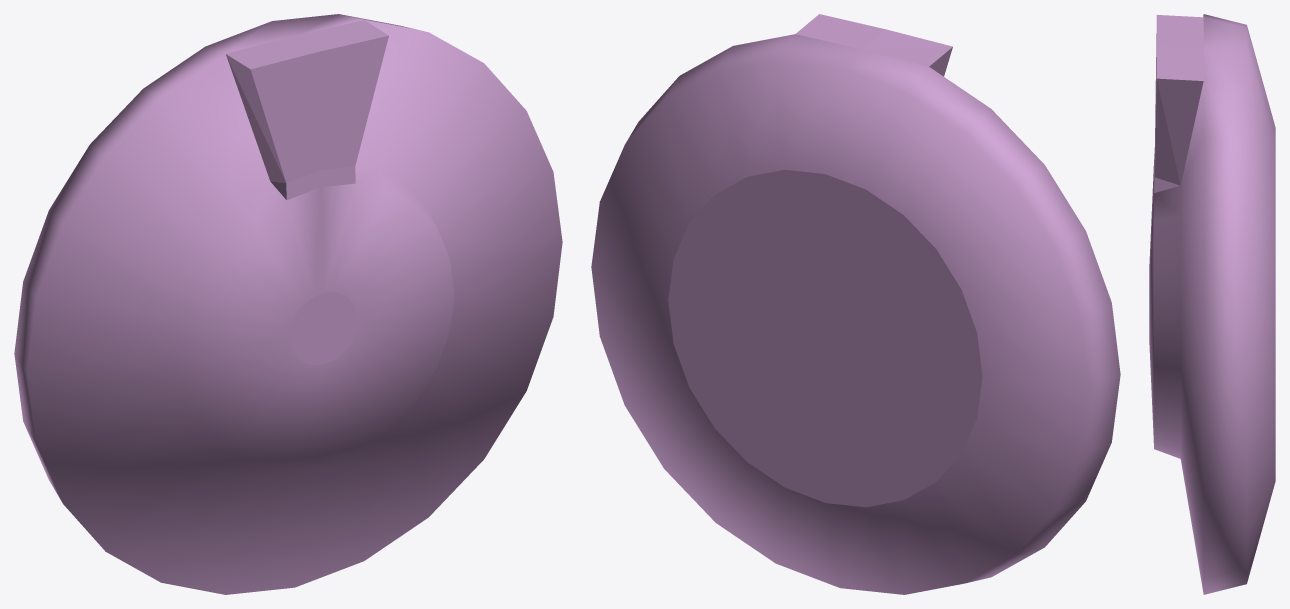
The model's file is NLO100.obj.
The picture shows the model from 3 angles, left to right: view 1: azimuth 30°, elevation 25°; view 2: azimuth 150°, elevation 25°; view 3: azimuth 270°, elevation 25°; orthographic projection. The views are drawn at different scales.
Parts seen in each view (by area): view 1: Cylinder001; view 2: Cylinder001; view 3: Cylinder001.
Part boxes in pixels (bbox=[...]): Cylinder001: bbox=[14, 14, 562, 594]; Cylinder001: bbox=[591, 14, 1120, 594]; Cylinder001: bbox=[1149, 14, 1275, 594].
Bounding box in the file's own units: 208 × 206 × 45.
